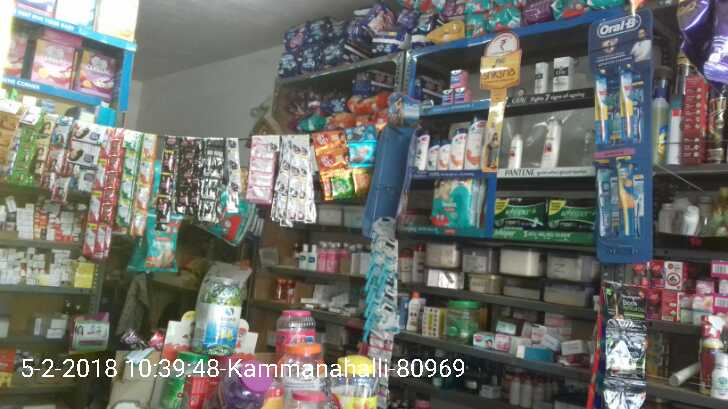beauty: (540, 118, 561, 170), (465, 116, 482, 169), (411, 127, 429, 172), (446, 126, 463, 168), (552, 58, 575, 89), (506, 131, 520, 166), (533, 60, 545, 94), (438, 138, 450, 171)
pharmacy: (436, 180, 485, 228), (496, 195, 548, 232), (615, 156, 638, 239), (545, 200, 598, 230), (594, 65, 612, 148), (616, 63, 634, 143), (595, 159, 612, 241), (450, 68, 470, 89)
